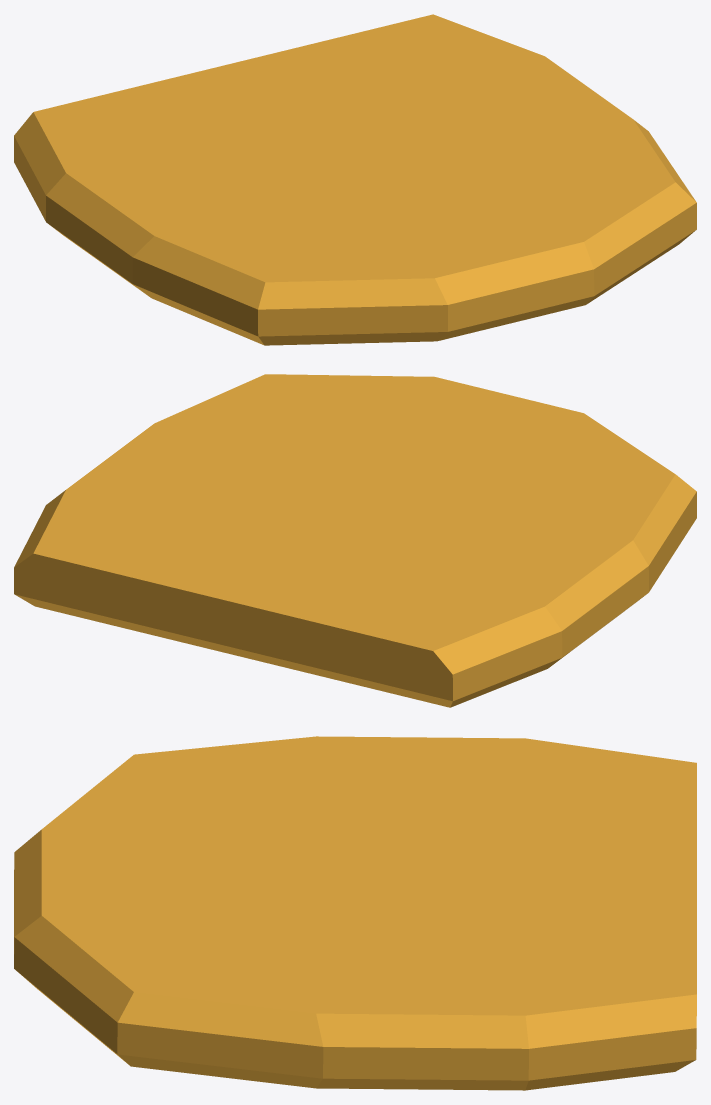
The model's file is toilet_lid.fbx.
3 renders of one model, top to bottom at view 1: azimuth 30°, elevation 25°; view 2: azimuth 150°, elevation 25°; view 3: azimuth 270°, elevation 25°, orthographic. The views are drawn at different scales.
Visible parts, largest first — view 1: Cube.063; view 2: Cube.063; view 3: Cube.063.
Part boxes in pixels (box(x1,y1,x2,y2)): Cube.063: box(14, 14, 696, 345); Cube.063: box(14, 374, 696, 707); Cube.063: box(14, 736, 696, 1090).
Bounding box in the file's own units: 126 × 15.58 × 122.
